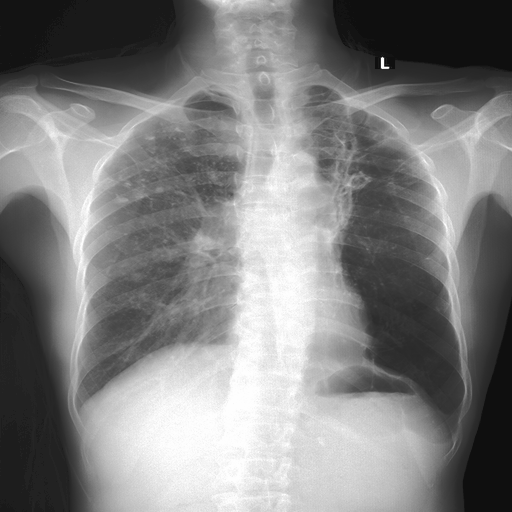Calcification: (326, 90, 396, 139), (422, 391, 464, 450)
Pleural effusion: (435, 400, 465, 436)
Pneumothorax: (102, 123, 234, 206), (312, 110, 413, 187), (375, 160, 422, 185)
Pulmonary fibrosis: (131, 271, 144, 280), (154, 184, 164, 195), (116, 194, 128, 203), (121, 181, 132, 188)
